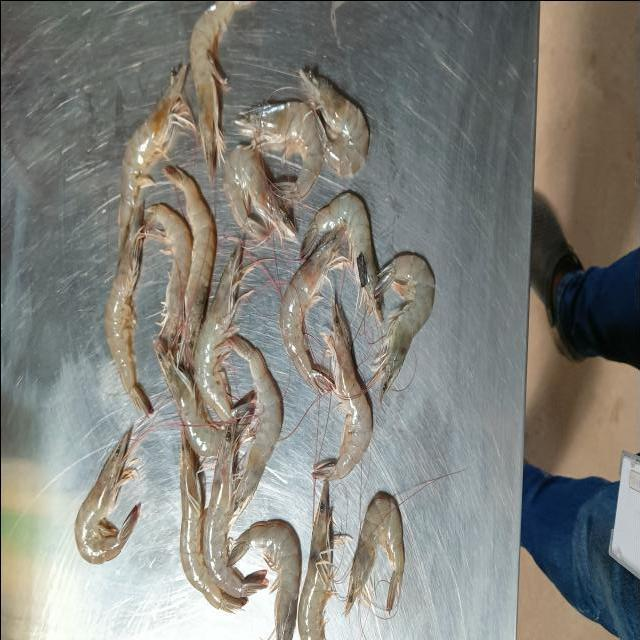shrimp: (118, 62, 188, 251), (214, 330, 284, 518), (180, 423, 247, 615), (190, 0, 261, 180), (202, 425, 268, 602), (278, 220, 345, 393), (192, 241, 254, 425), (300, 193, 383, 328), (312, 307, 375, 481), (165, 164, 218, 365), (105, 199, 153, 419), (235, 100, 323, 203), (74, 430, 140, 566), (377, 254, 435, 406), (230, 520, 303, 640), (154, 340, 228, 456), (299, 70, 369, 178), (223, 143, 298, 242), (144, 203, 194, 348), (345, 497, 405, 612), (297, 479, 333, 640)
